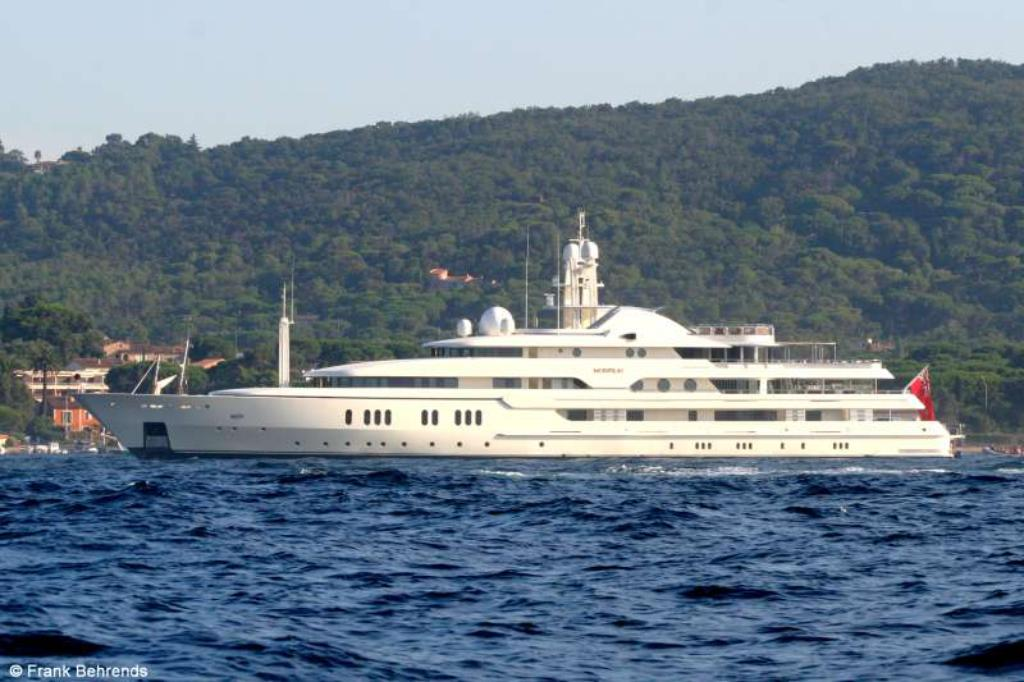PassengerShip: (78, 224, 960, 464)
